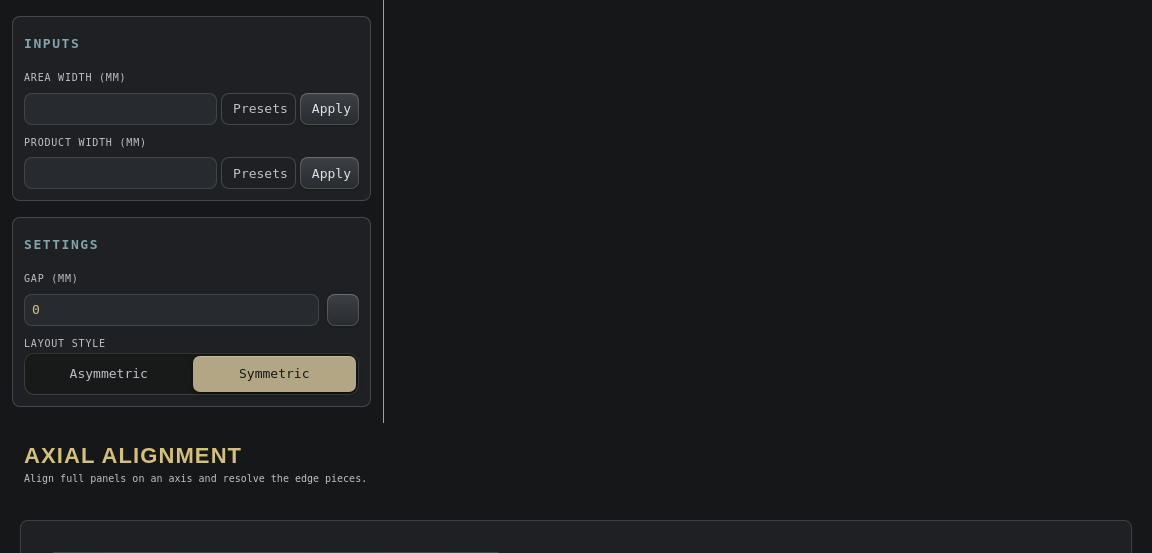
Test case: material presets on the symmetric layout page › opens on the toggle and closes on it again
Click the button titled "Presets" below "Product width (mm)".
click(258, 173)  # box [221,157,296,189]
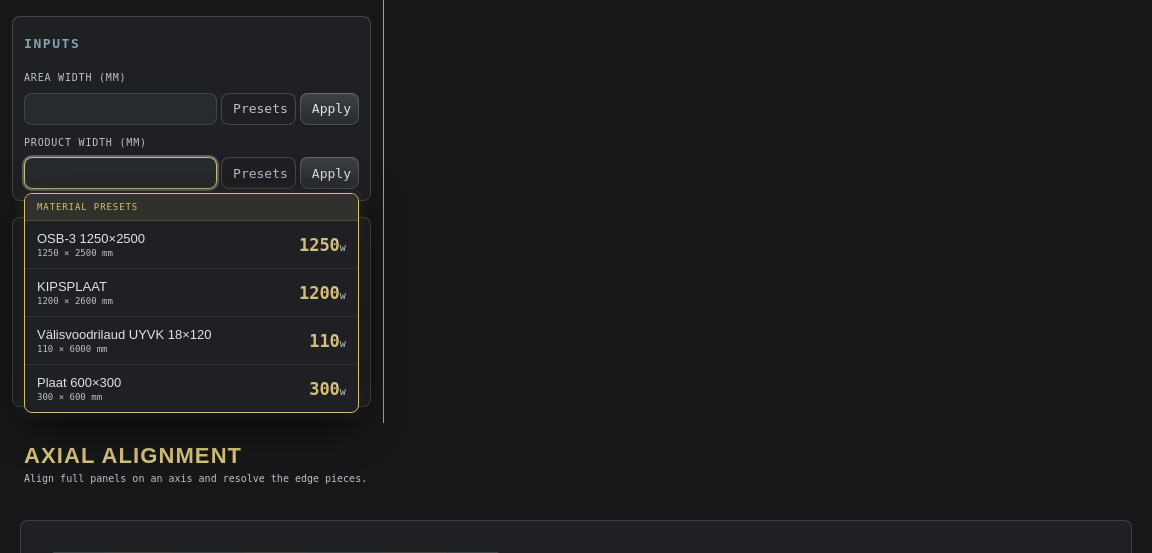
Result: the text "Material Presets" is shown at [25,194,358,221]
Result: the text "OSB-3 1250×2500" is shown at [37,231,145,246]
Click the button titled "Presets" below "Product width (mm)".
click(258, 173)  # box [221,157,296,189]
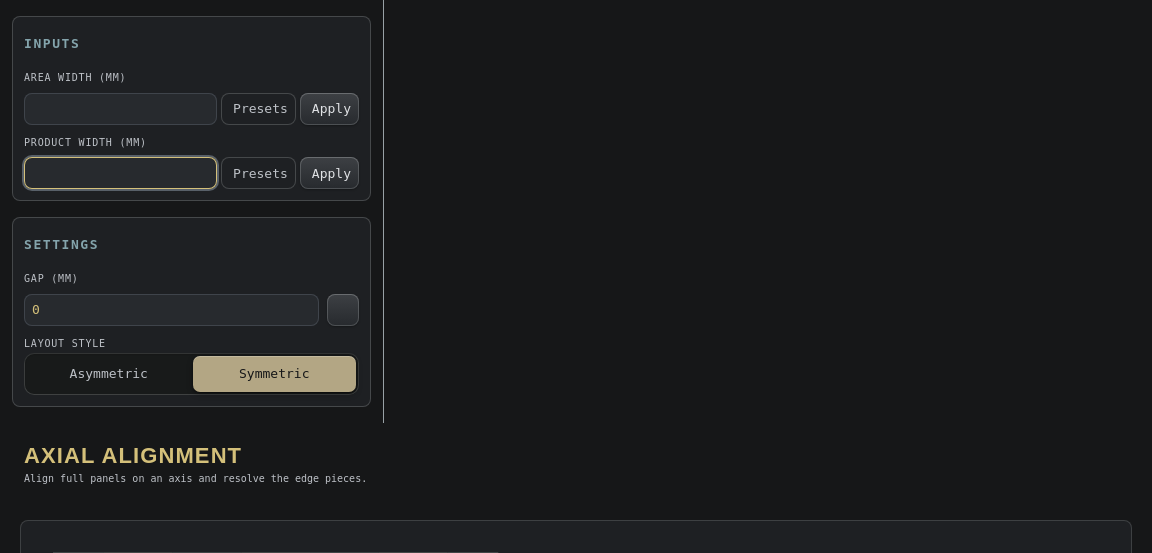
Result: the text "Material Presets" is gone
